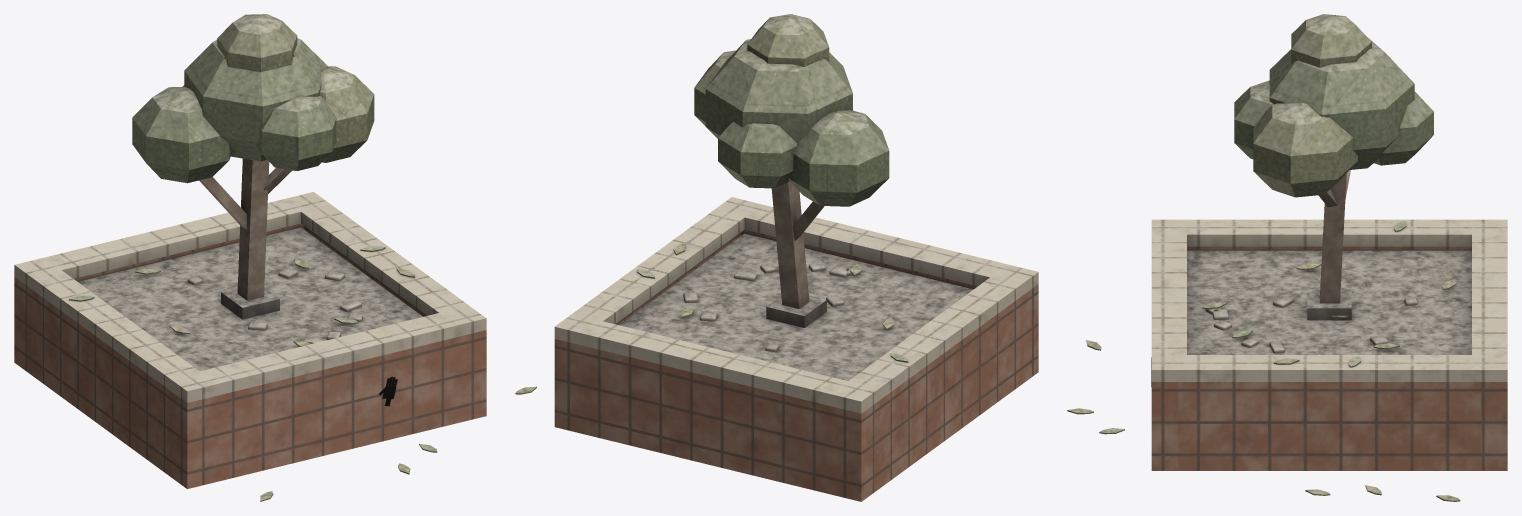
File: mall_planter.fbx
3 renders of one model, left to right at view 1: azimuth 30°, elevation 25°; view 2: azimuth 150°, elevation 25°; view 3: azimuth 270°, elevation 25°, orthographic. The views are drawn at different scales.
Visible parts, largest first — view 1: Body; view 2: Body; view 3: Body.
Boxes of the visible parts, x1=… form: Body: x1=14, y1=14, x2=486, y2=501; Body: x1=515, y1=14, x2=1038, y2=501; Body: x1=1067, y1=14, x2=1507, y2=501.
Size of the model in its own units: 9.66 by 9.45 by 9.89.
1 material, 1 textured.
